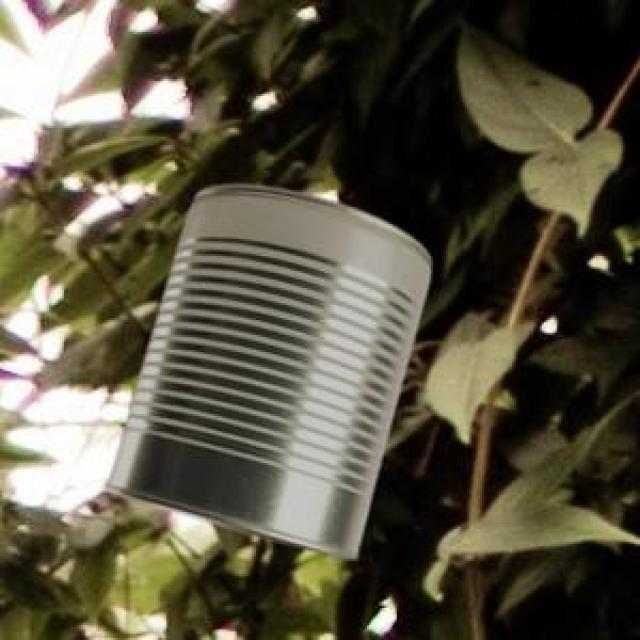Can: (103, 180, 428, 556)
